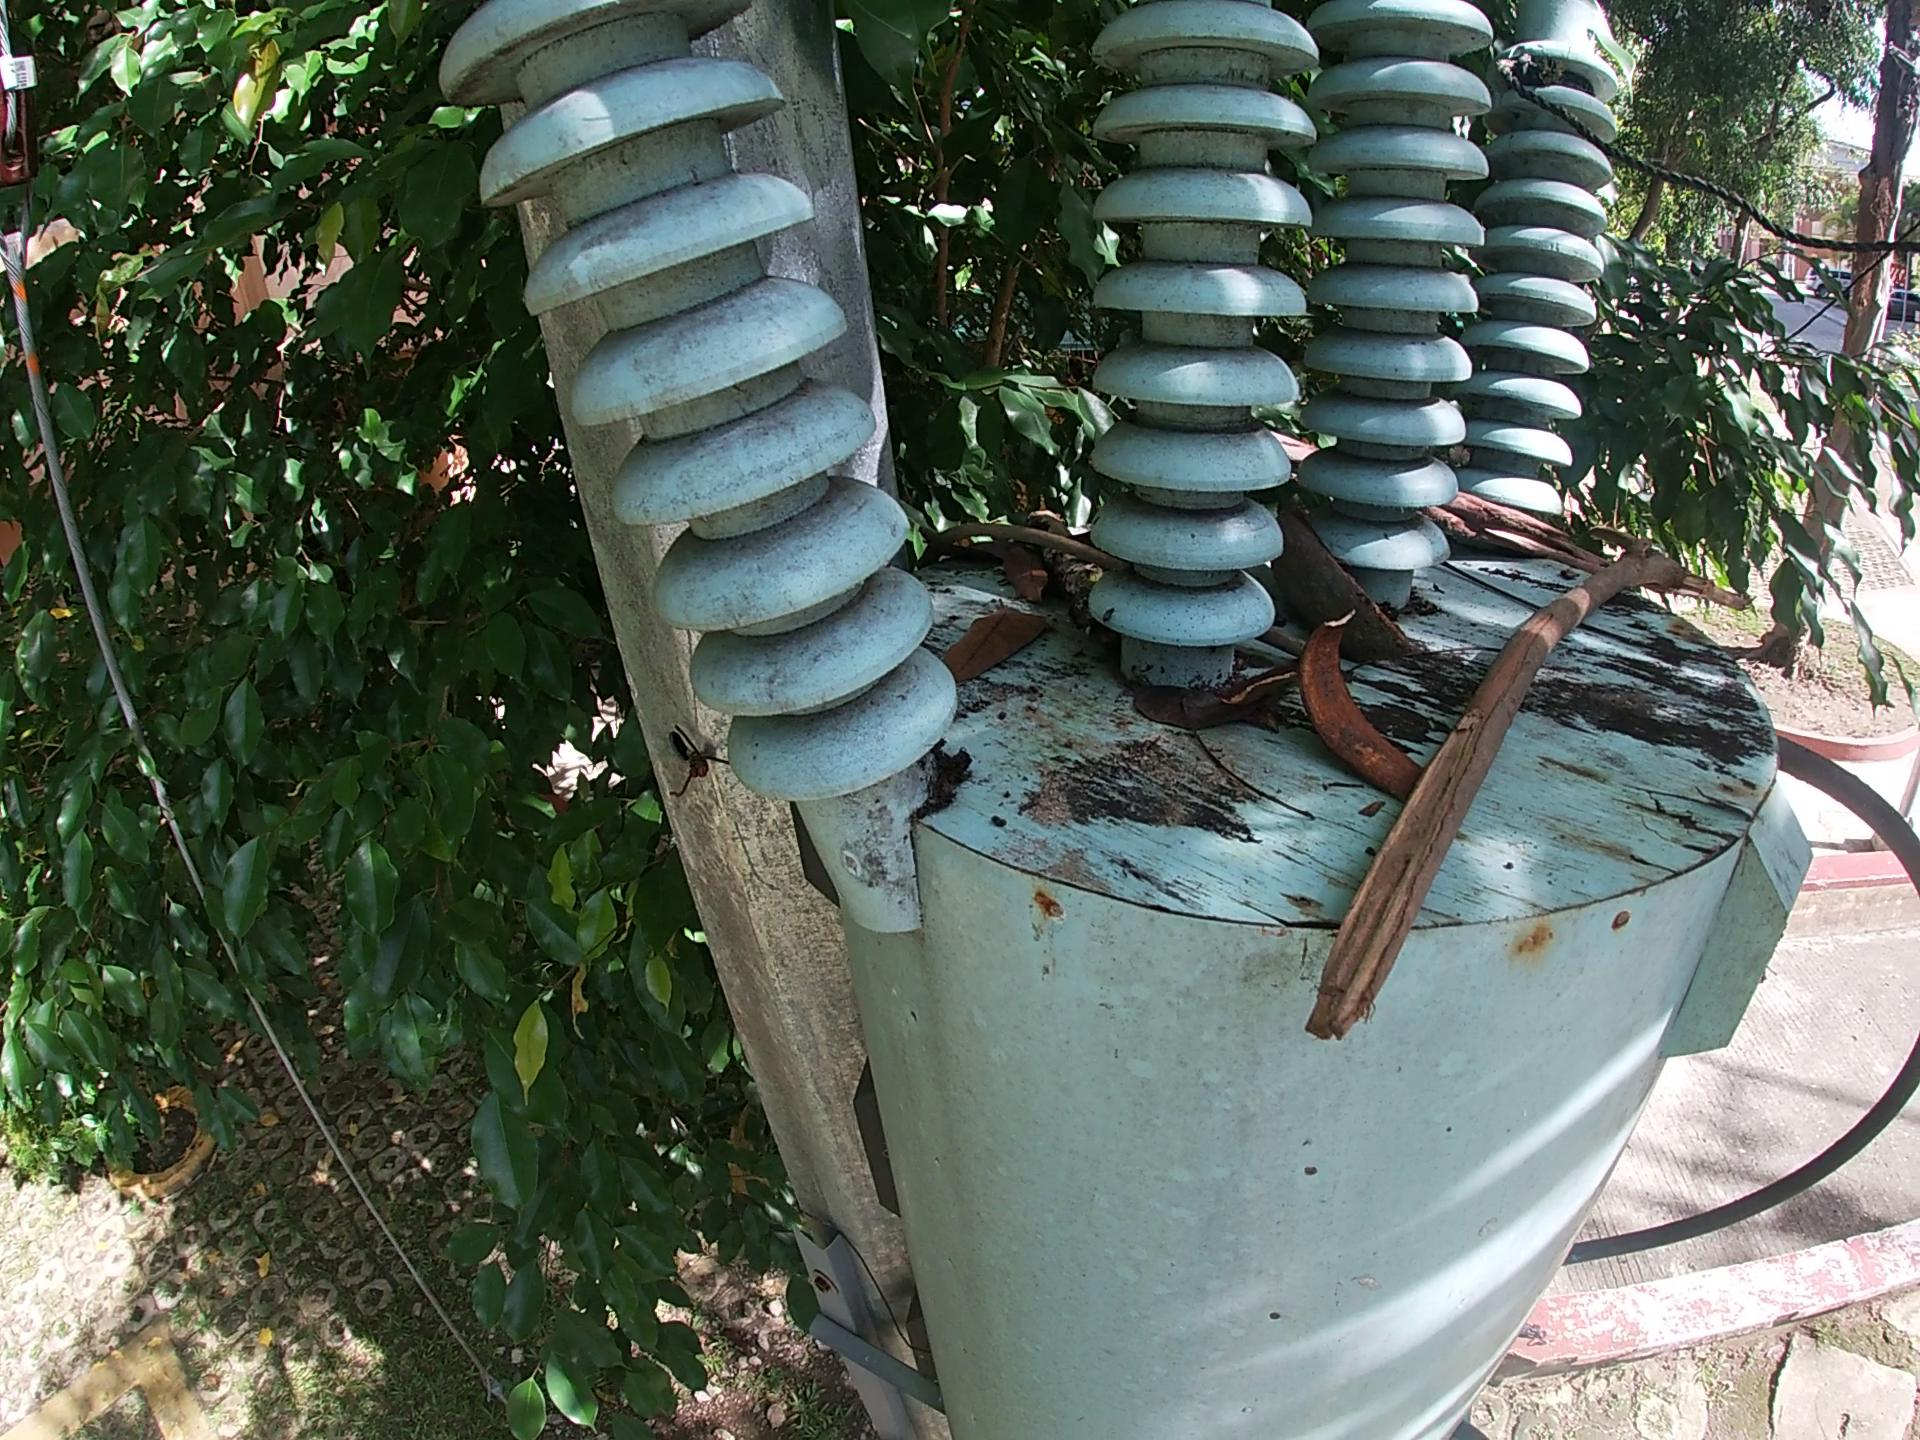leaf: (940, 607, 1067, 669), (1131, 682, 1196, 725)
mahogany fruit: (1288, 625, 1432, 793), (1281, 513, 1420, 681)
tree branch: (1323, 560, 1760, 1077), (1445, 563, 1689, 672), (1169, 728, 1330, 830), (1447, 490, 1625, 572), (1005, 504, 1102, 605), (1184, 667, 1296, 731), (900, 534, 1105, 557), (1281, 408, 1323, 463), (1270, 622, 1305, 658)
